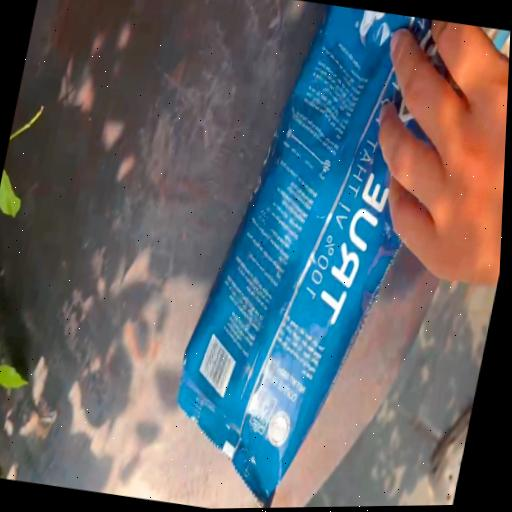cafe_hat: (178, 4, 436, 508)
